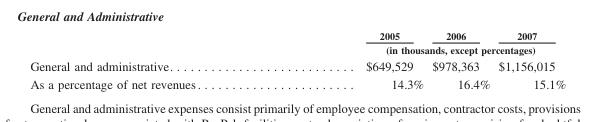table: (29, 29, 565, 90)
table column: (29, 29, 282, 90), (282, 29, 427, 90), (493, 29, 565, 90), (427, 29, 493, 90)
table column header: (29, 29, 565, 56)
table row: (29, 56, 565, 74), (29, 74, 565, 90), (29, 41, 565, 56), (29, 29, 565, 41)
table spanning cell: (282, 41, 565, 56)
